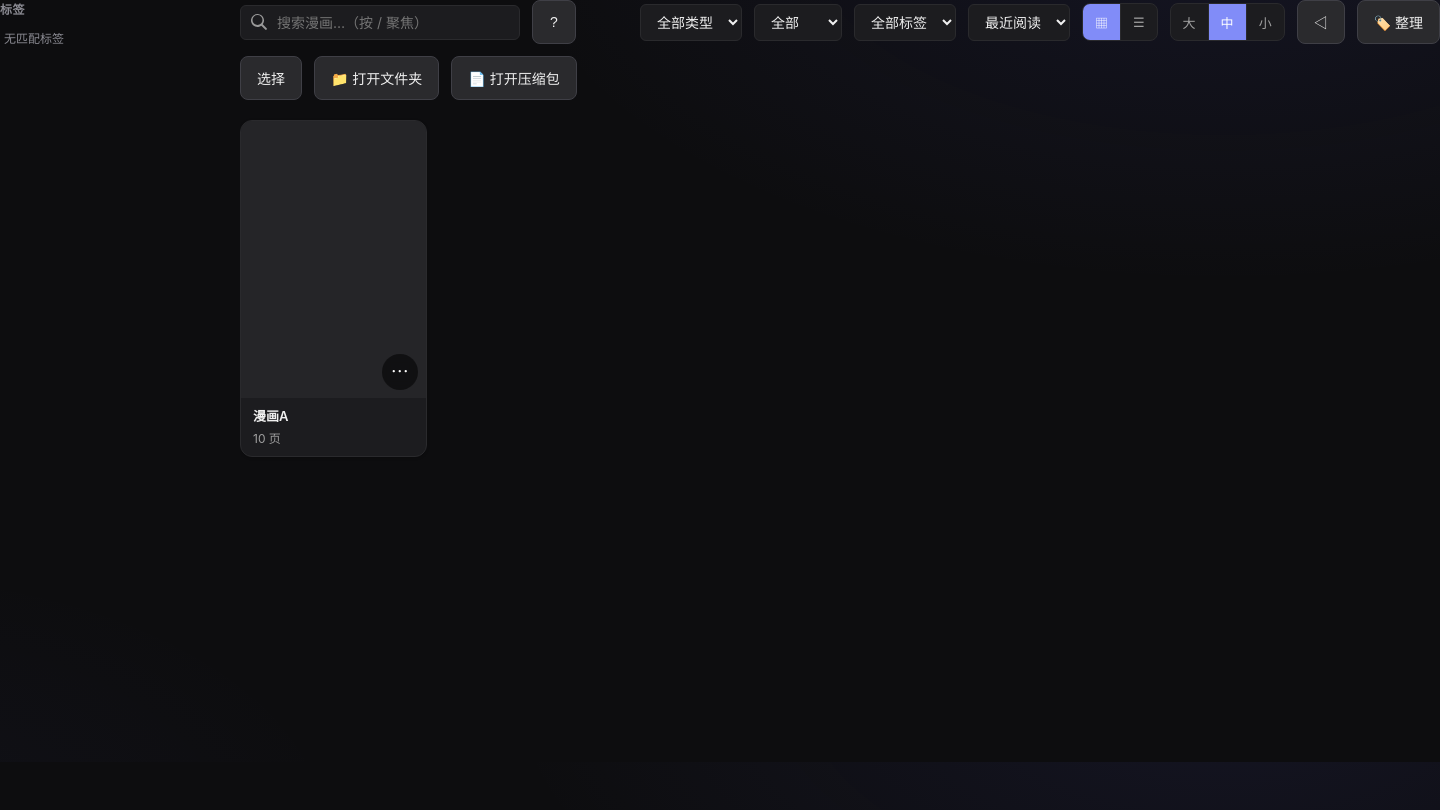
Test: Library 卡片操作面板（触屏可达性） › 面板里的「从库中移除」走既有二次确认
Check: the text "漫画A" is shown, box [253,408,288,424]
Click the button named "更多操作：漫画A". click: coordinates (400, 372)
box: [382,354,418,390]
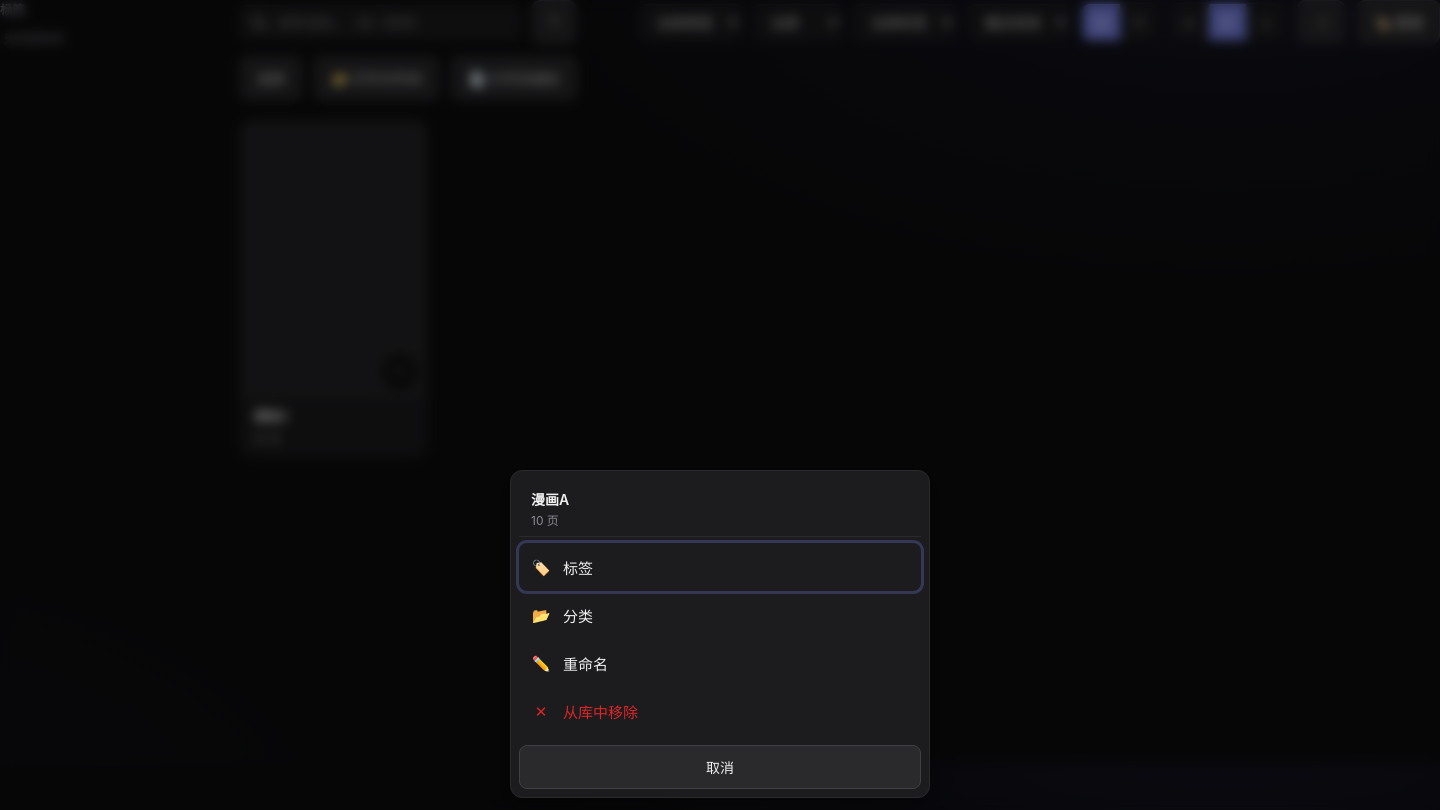
Click the button "✕ 从库中移除". click: coordinates (601, 712)
box: [519,687,921,735]
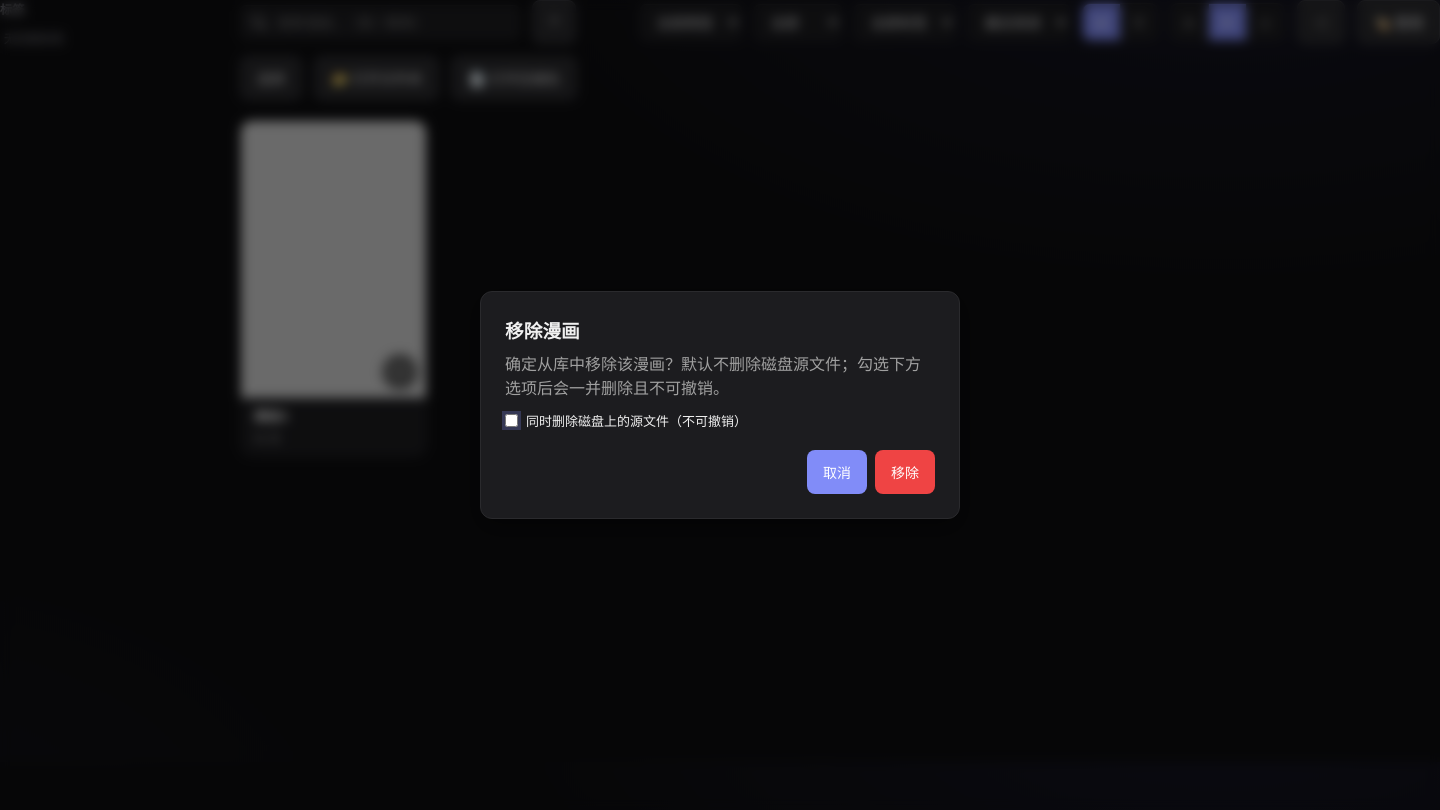
Check: the heading "移除漫画" is shown, box [505,320,580,343]
